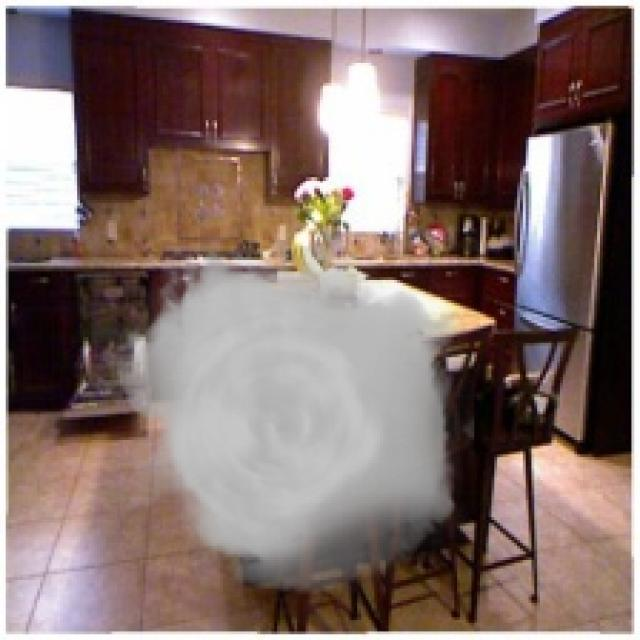Smoke: (106, 246, 474, 594)
